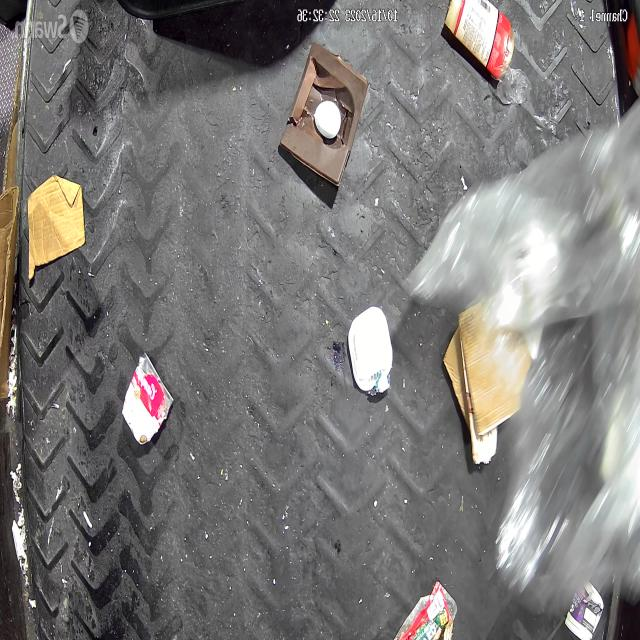can: (121, 353, 173, 446)
